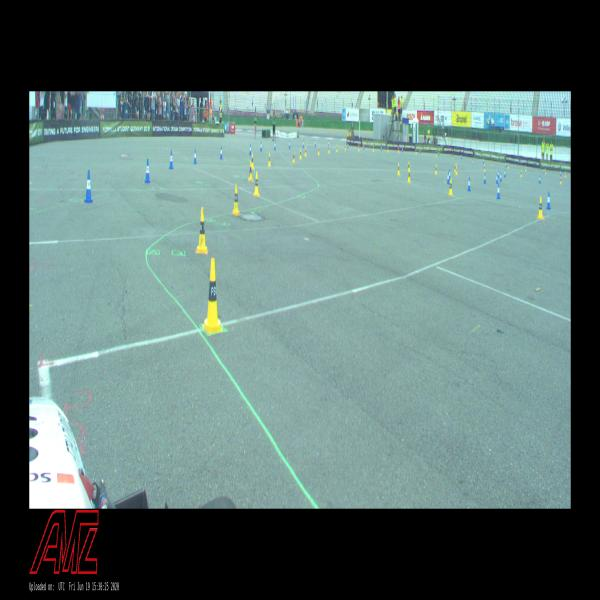blue_cone: (85, 170, 93, 202), (144, 158, 150, 183), (169, 150, 174, 169), (546, 191, 551, 209), (496, 183, 500, 199), (193, 148, 197, 164), (467, 177, 471, 191), (220, 146, 223, 159), (447, 171, 450, 184), (249, 144, 252, 155), (483, 173, 486, 183), (260, 141, 262, 151), (288, 140, 290, 149), (274, 141, 276, 150)
yellow_cone: (202, 258, 223, 334), (196, 207, 208, 254), (232, 184, 240, 216), (253, 172, 260, 196), (537, 196, 544, 219), (248, 161, 253, 181), (449, 177, 452, 196), (407, 168, 411, 182), (268, 153, 271, 166), (397, 163, 400, 176), (252, 153, 254, 169), (299, 149, 302, 159), (293, 151, 295, 163), (304, 146, 306, 157), (435, 164, 437, 174), (318, 146, 320, 155), (520, 169, 522, 177)
